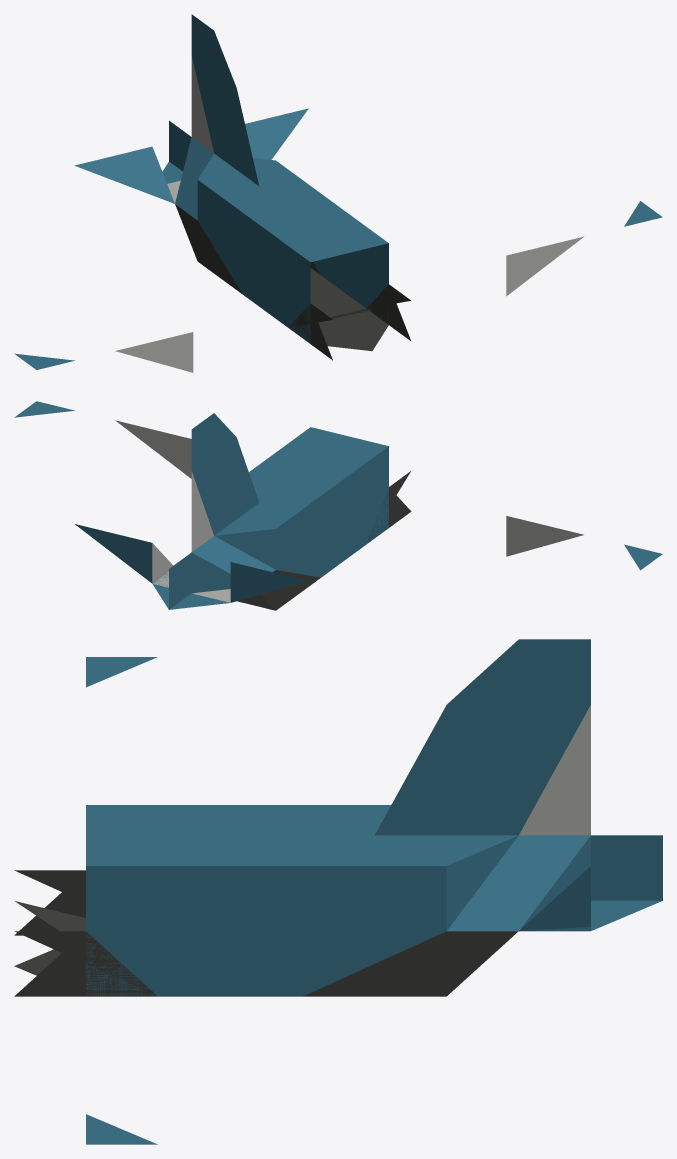
The model's file is staging_aircraft_tail_silhouette.obj.
3 renders of one model, top to bottom at view 1: azimuth 30°, elevation 25°; view 2: azimuth 150°, elevation 25°; view 3: azimuth 270°, elevation 25°, orthographic. The views are drawn at different scales.
Bounding box in the file's own units: 26.62 × 8.32 × 14.97.
